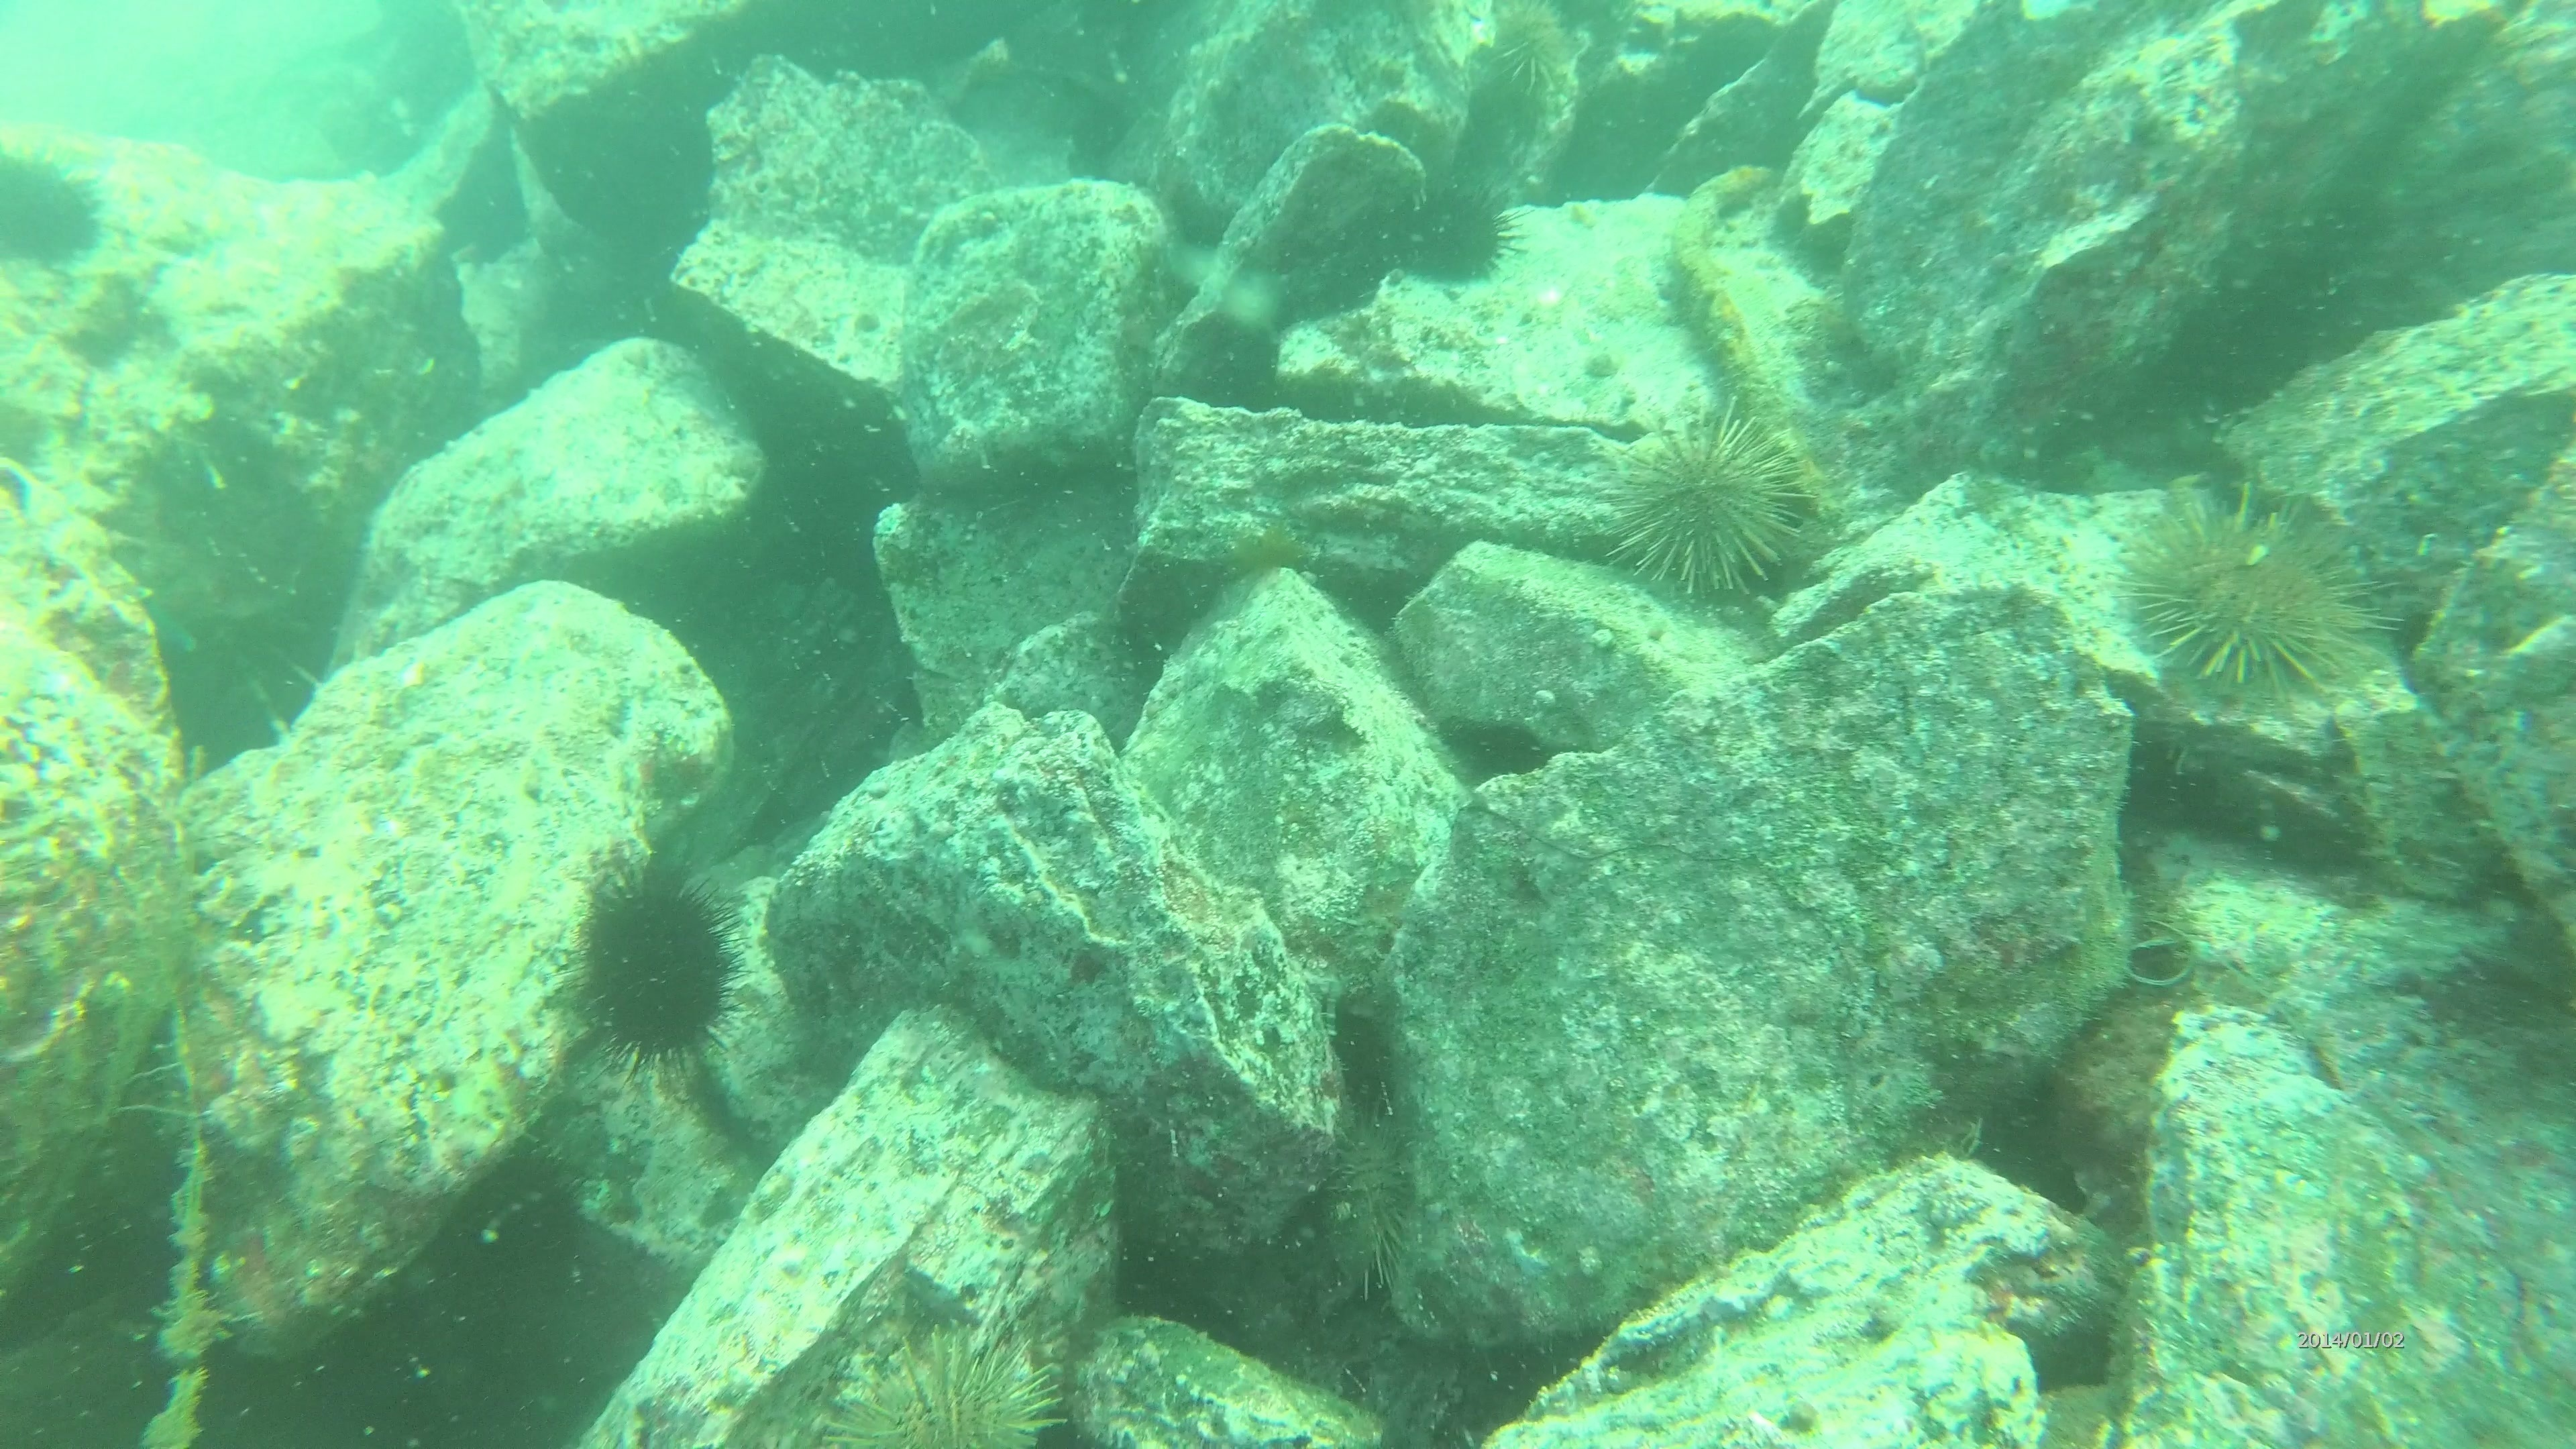echinus: (2120, 488, 2376, 711), (1601, 410, 1815, 602), (563, 858, 748, 1072), (824, 1323, 1072, 1440), (421, 1146, 591, 1313), (1307, 1102, 1430, 1304), (1380, 173, 1522, 292), (2, 140, 110, 274), (1474, 2, 1587, 115)
